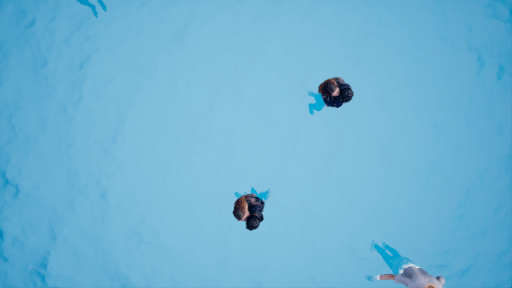person: (366, 238, 442, 288), (302, 76, 356, 119), (229, 186, 277, 233)
